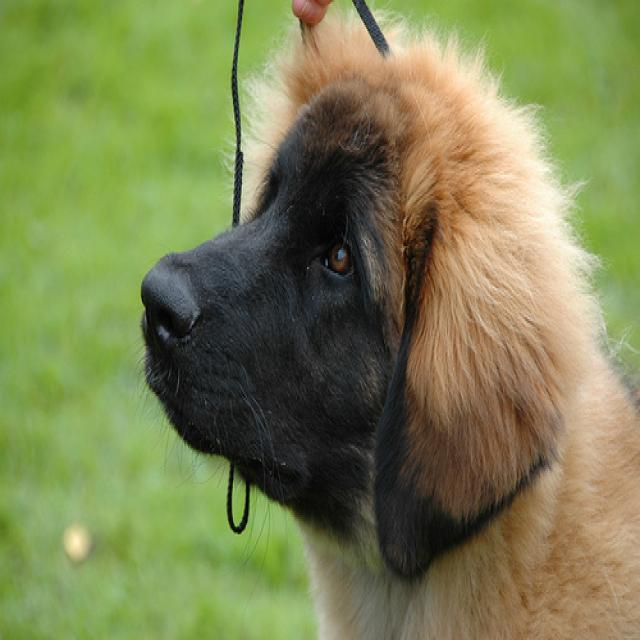dog-leonberger: (131, 21, 637, 636)
